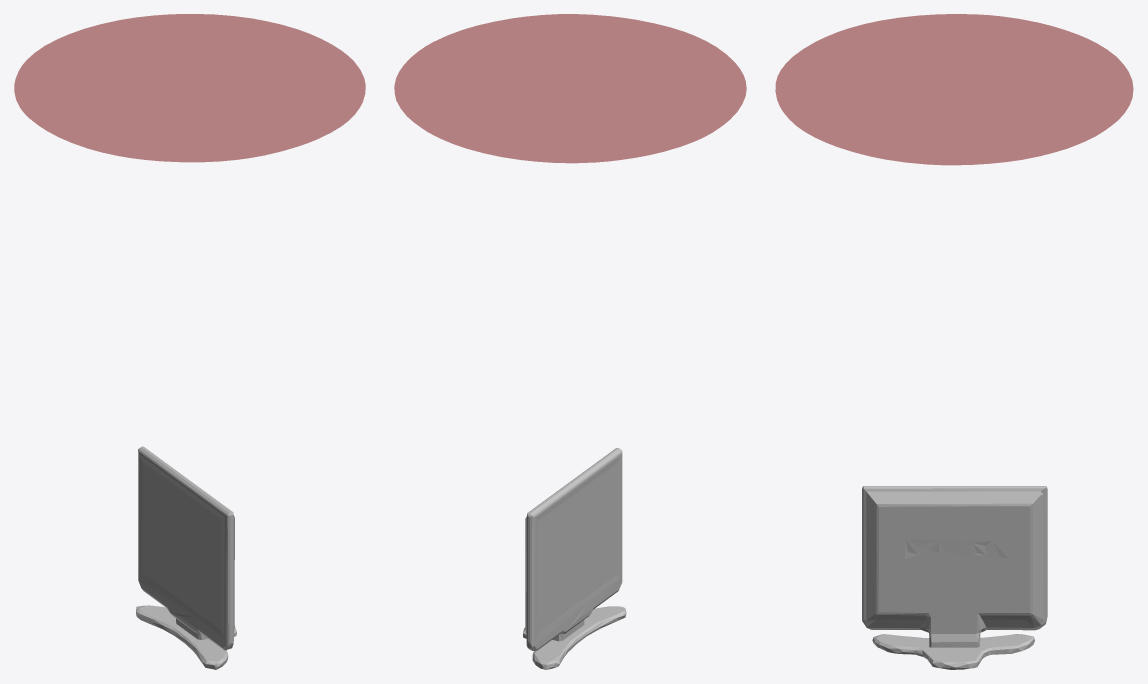
File: init.glb
3 views of the same model, side by side, from view 1: azimuth 30°, elevation 25°; view 2: azimuth 150°, elevation 25°; view 3: azimuth 270°, elevation 25° (orthographic).
Parts seen in each view (by area): view 1: world, object.obj; view 2: world, object.obj; view 3: world, object.obj.
Boxes of the visible parts, x1,y1,x2,y2 form: world: (14, 14, 365, 162); object.obj: (136, 446, 236, 669); world: (394, 14, 746, 163); object.obj: (523, 448, 626, 669); world: (775, 14, 1133, 165); object.obj: (862, 486, 1047, 669).
Size of the model in its own units: 0.5789 by 1 by 0.5789.
